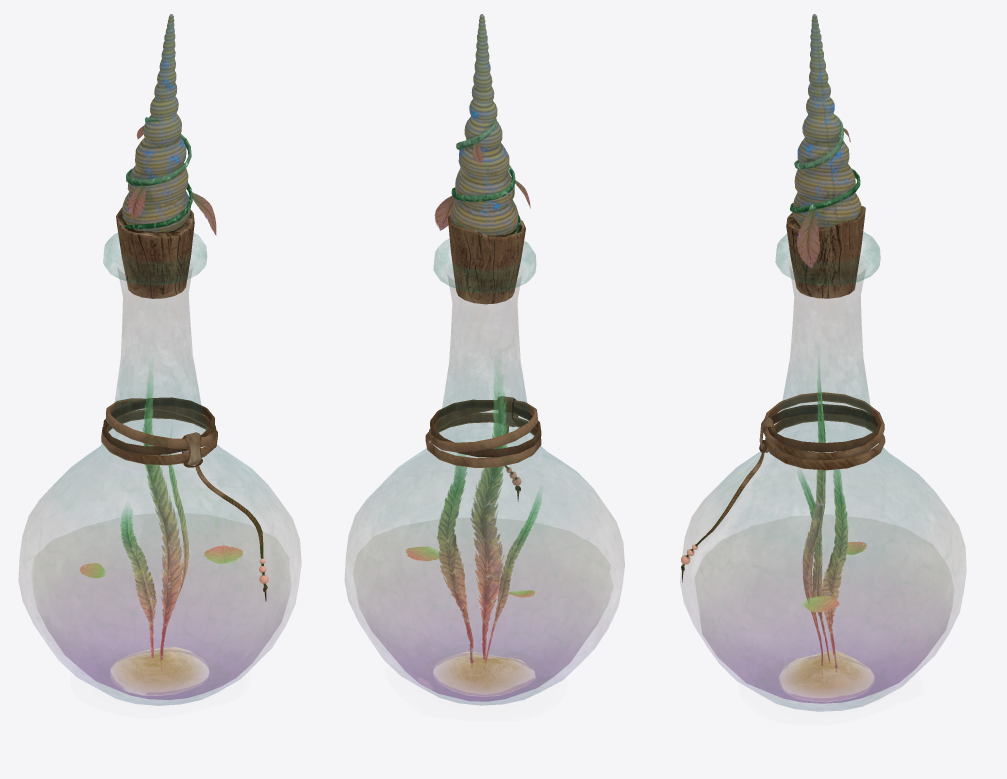
Rendered from PRP_Flask.glb.
3 renders of one model, left to right at view 1: azimuth 30°, elevation 25°; view 2: azimuth 150°, elevation 25°; view 3: azimuth 270°, elevation 25°, orthographic. The views are drawn at different scales.
Parts seen in each view (by area): view 1: Potion2_Glass_0, Potion2_Liquid_0, Potion2_Objects_0, Potion2_Plants_0; view 2: Potion2_Glass_0, Potion2_Objects_0, Potion2_Liquid_0, Potion2_Plants_0; view 3: Potion2_Glass_0, Potion2_Liquid_0, Potion2_Objects_0, Potion2_Plants_0.
Boxes of the visible parts, bbox=[...] form: Potion2_Glass_0: bbox=[18, 233, 301, 705]; Potion2_Liquid_0: bbox=[32, 551, 288, 699]; Potion2_Objects_0: bbox=[101, 14, 268, 695]; Potion2_Plants_0: bbox=[79, 117, 242, 671]; Potion2_Glass_0: bbox=[344, 239, 624, 705]; Potion2_Objects_0: bbox=[425, 14, 541, 695]; Potion2_Liquid_0: bbox=[359, 555, 604, 701]; Potion2_Plants_0: bbox=[406, 119, 541, 663]; Potion2_Glass_0: bbox=[680, 232, 966, 711]; Potion2_Liquid_0: bbox=[699, 563, 951, 703]; Potion2_Objects_0: bbox=[681, 14, 885, 698]; Potion2_Plants_0: bbox=[790, 113, 866, 677].
Size of the model in its own units: 556 by 1410 by 595.
Materials: 5 (5 with a texture image).
